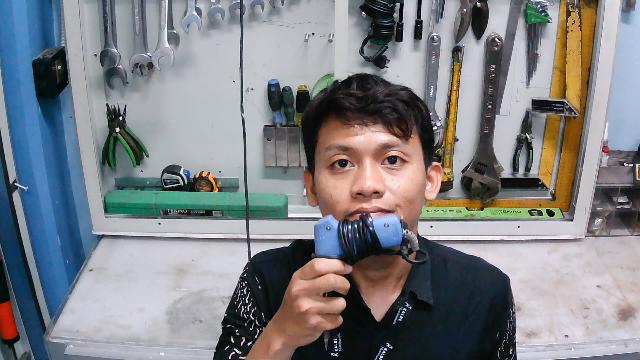solder_electrical: (312, 209, 430, 295)
